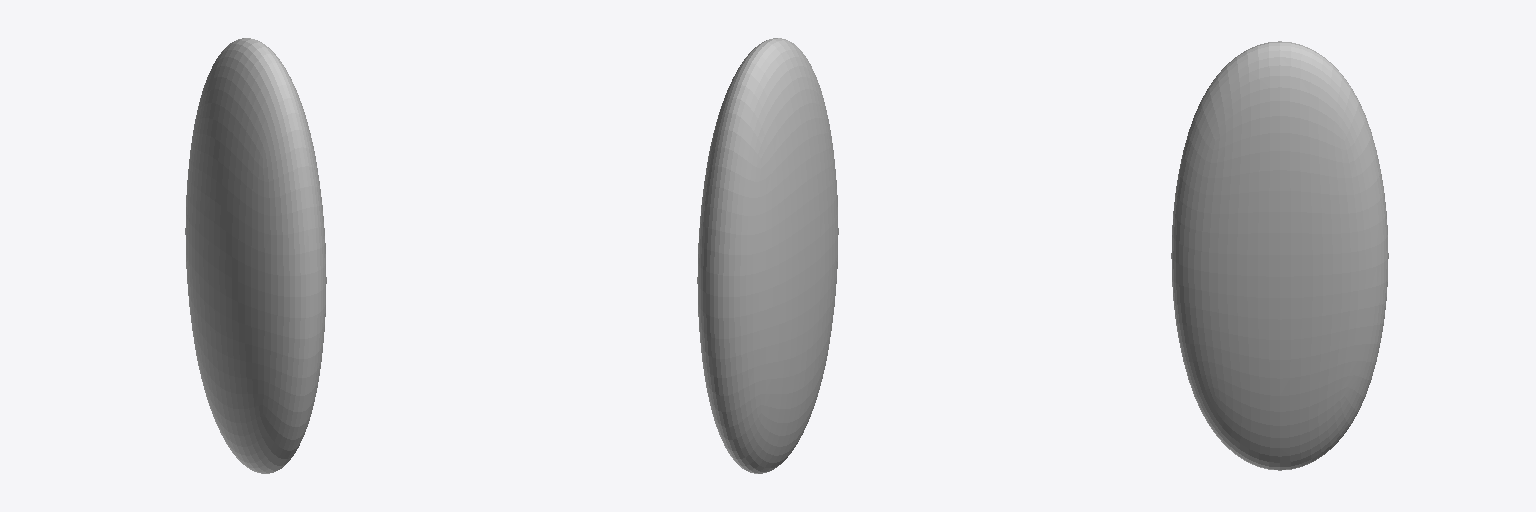
The model's file is Arms.obj.
3 renders of one model, left to right at view 1: azimuth 30°, elevation 25°; view 2: azimuth 150°, elevation 25°; view 3: azimuth 270°, elevation 25°, orthographic.
Visible parts, largest first — view 1: Arms_Cube; view 2: Arms_Cube; view 3: Arms_Cube.
Boxes of the visible parts, <box> form: Arms_Cube: <box>185,38,326,473</box>; Arms_Cube: <box>697,38,838,473</box>; Arms_Cube: <box>1171,41,1388,470</box>.
Size of the model in its own units: 0.1338 by 0.6447 by 0.2972.